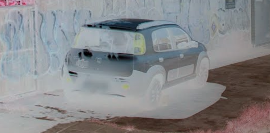car: (63, 18, 214, 111)
